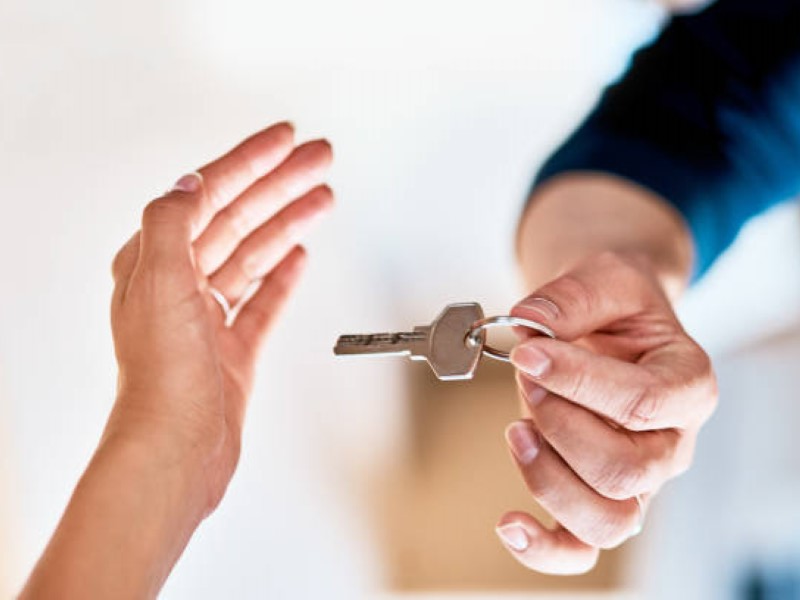key: (328, 299, 492, 390)
